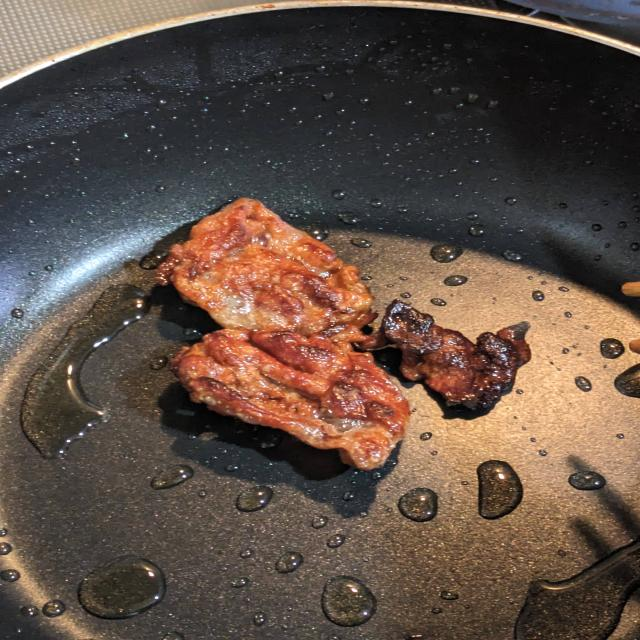overcooked pork: (150, 324, 424, 486), (139, 188, 377, 347), (378, 293, 541, 421)
